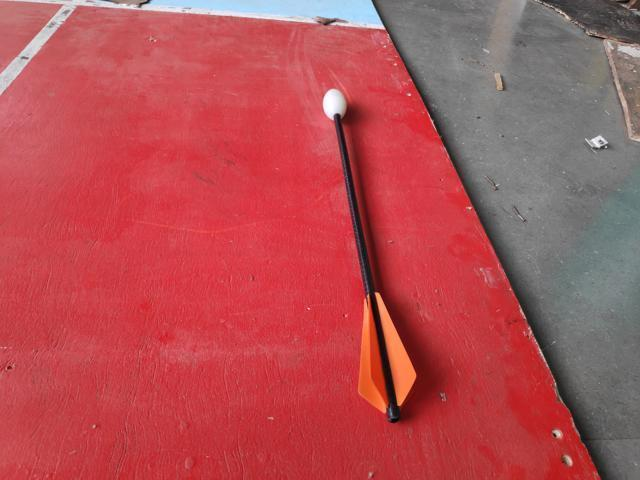Head: (317, 85, 354, 127)
Tail: (351, 294, 417, 422)
